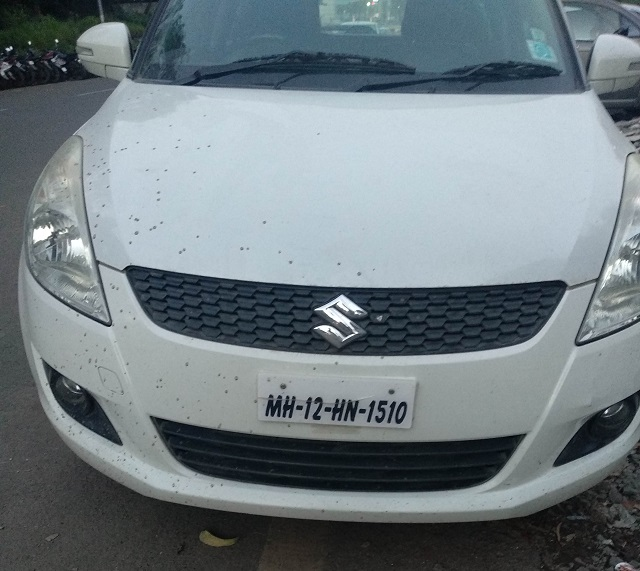licenseplate: (253, 368, 418, 433)
